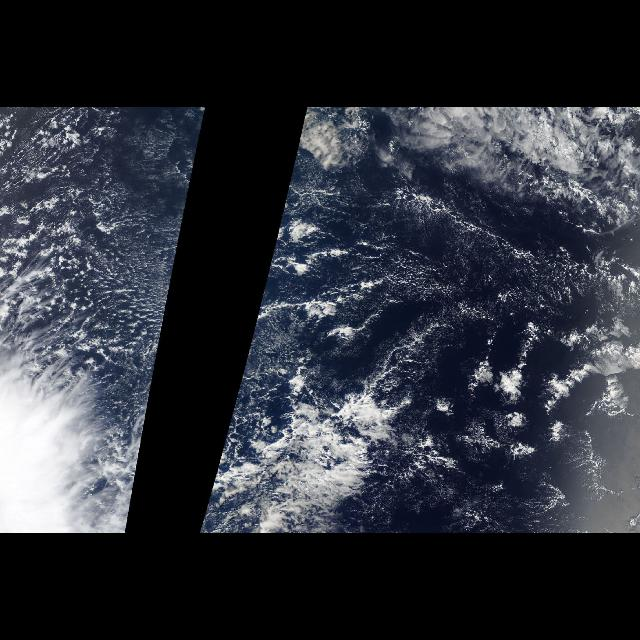Flower: (450, 352, 638, 466)
Gravel: (0, 126, 202, 350)
Sugar: (7, 161, 189, 365), (339, 186, 587, 334)
